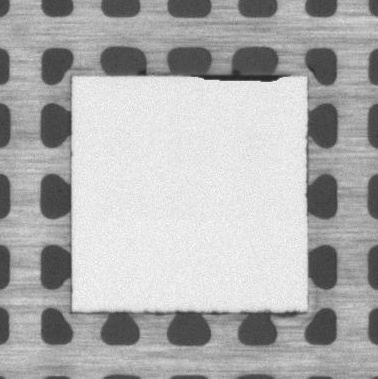DIE_BROKEN: (193, 69, 291, 83)
